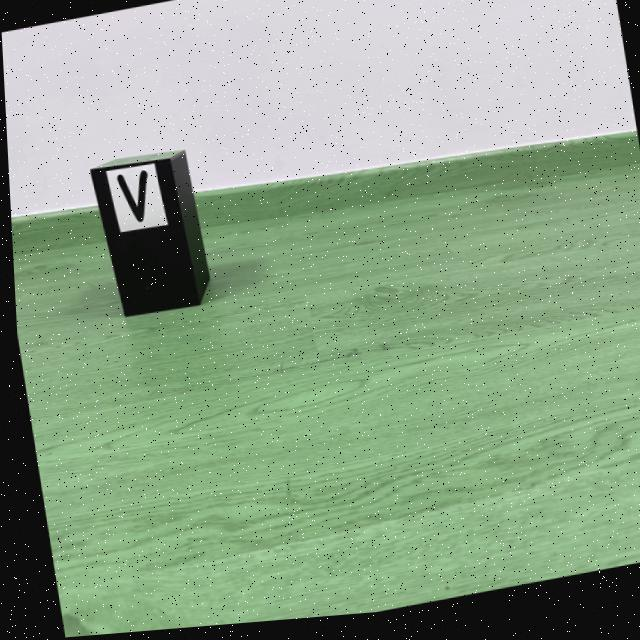V: (115, 172, 145, 224)
